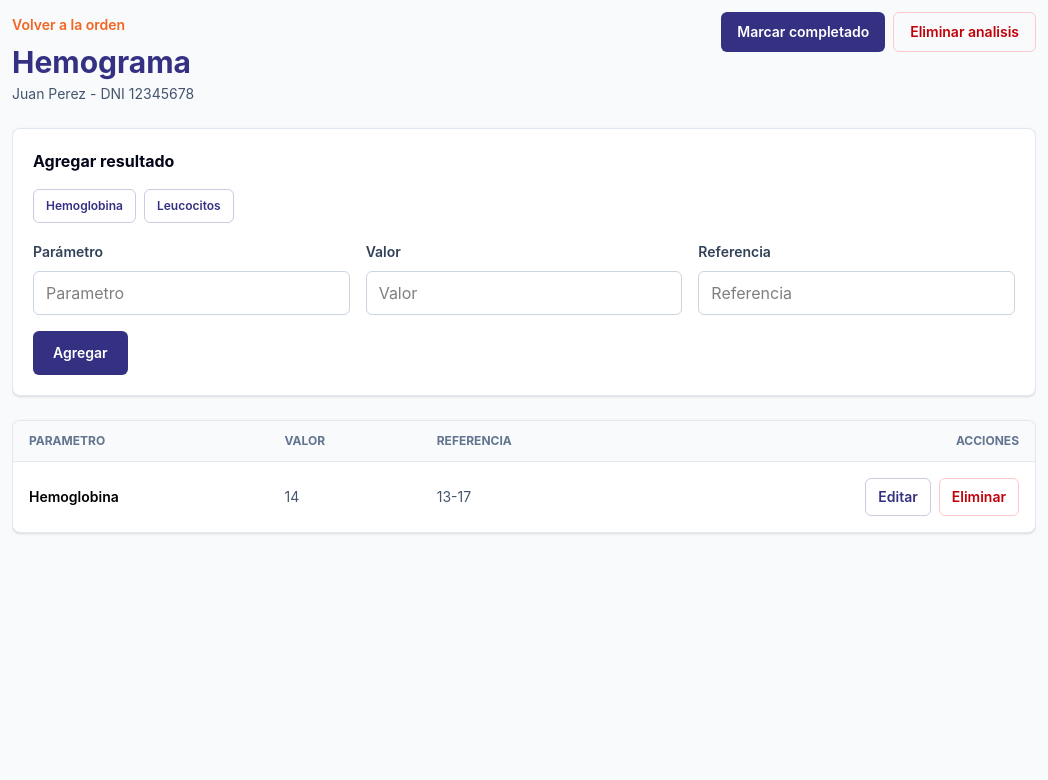
Scenario: AdminAnalysisDetail › marks the analysis as completed
Check: the heading "Hemograma" is shown, box 12,44 -> 194,80
Click the button "Marcar completado" at (803, 32), box 721,12 -> 885,52
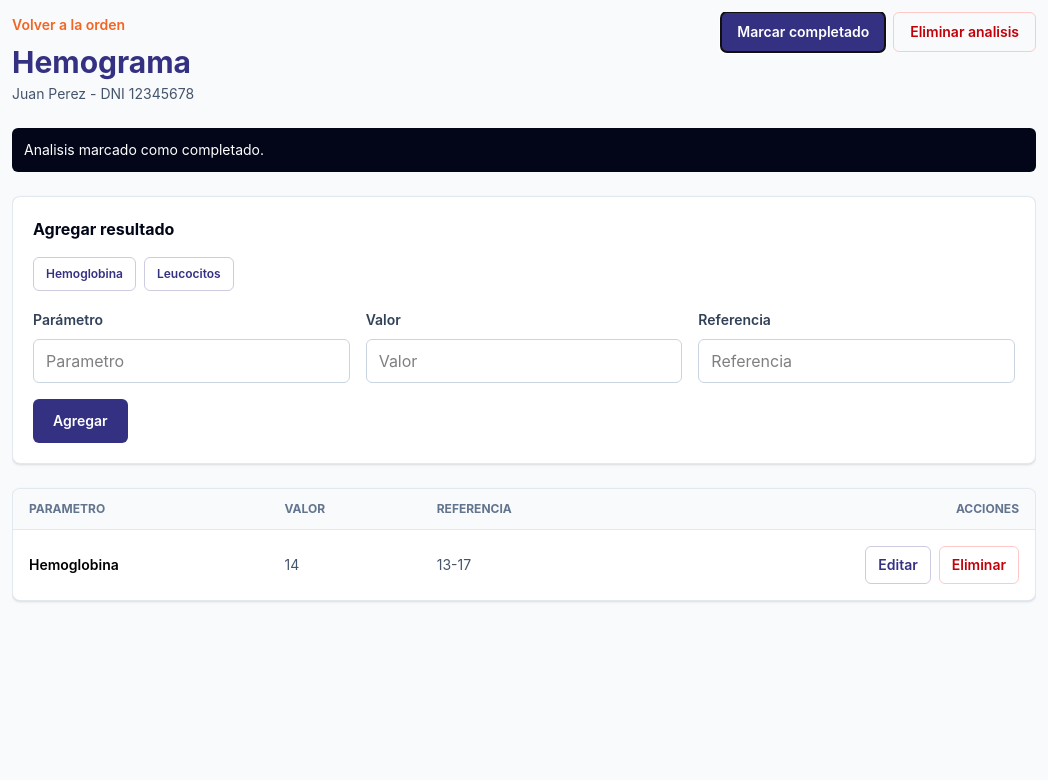
Check: the text "Analisis marcado como completado." is shown, box 12,128 -> 1036,172
